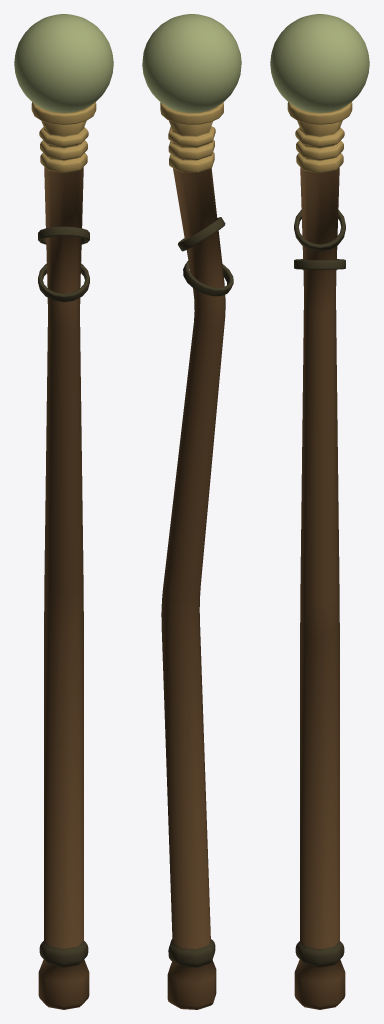
File: Wizard_Staff.glb
3 views of the same model, side by side, from view 1: azimuth 90°, elevation 25°; view 2: azimuth 150°, elevation 25°; view 3: azimuth 270°, elevation 25° (orthographic).
Parts seen in each view (by area): view 1: Wizard_Staff_anim; view 2: Wizard_Staff_anim; view 3: Wizard_Staff_anim.
Boxes of the visible parts, <box> form: Wizard_Staff_anim: <box>14,14,113,1009</box>; Wizard_Staff_anim: <box>142,14,241,1009</box>; Wizard_Staff_anim: <box>270,14,369,1009</box>.
Size of the model in its own units: 1.3 by 14.19 by 1.3.
